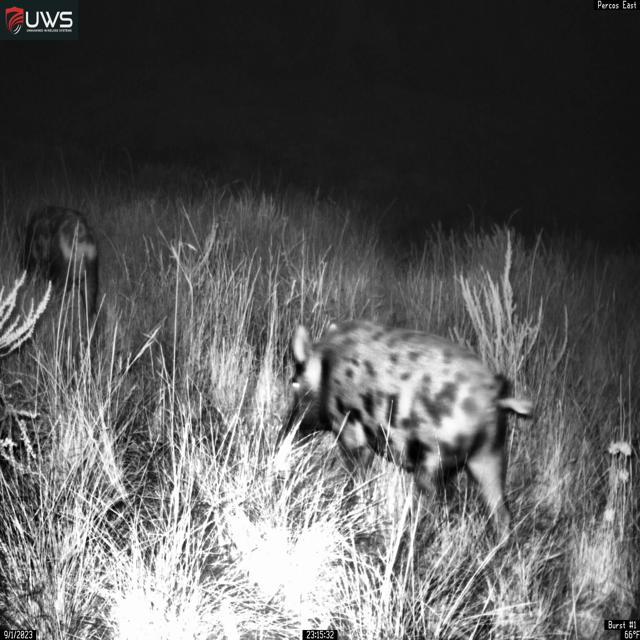pig: (278, 318, 535, 550)
